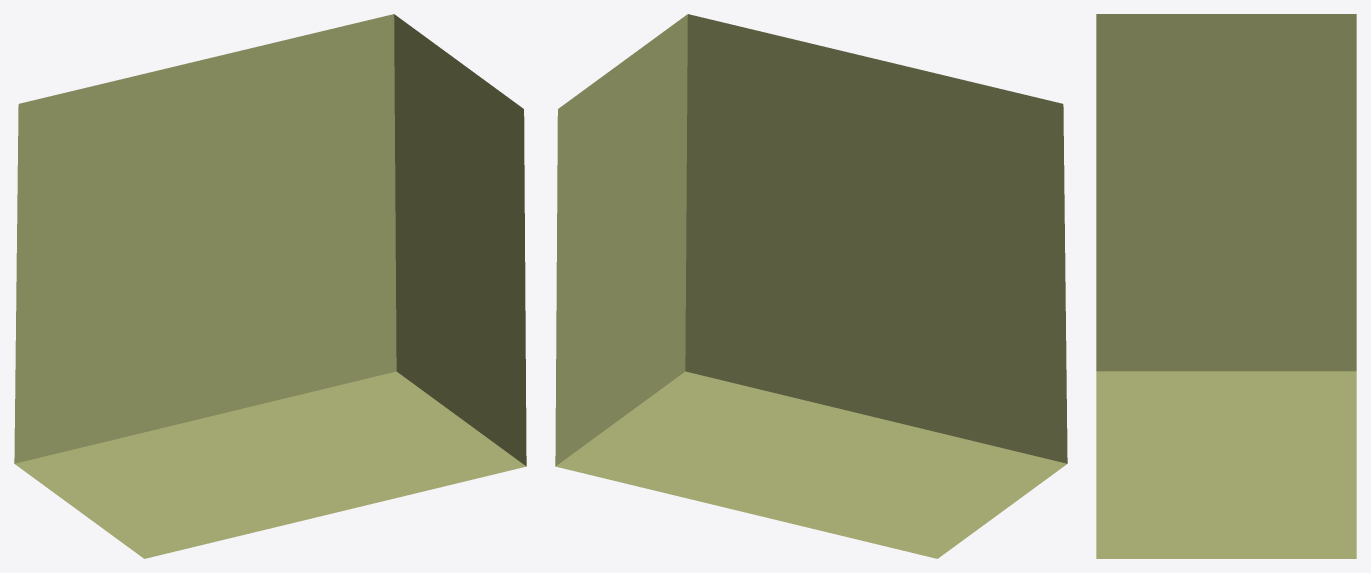
3 renders of one model, left to right at view 1: azimuth 30°, elevation 25°; view 2: azimuth 150°, elevation 25°; view 3: azimuth 270°, elevation 25°, orthographic.
Visible parts, largest first — view 1: 0_2_2_0_0_0_2_1_1_1_1; view 2: 0_2_2_0_0_0_2_1_1_1_1; view 3: 0_2_2_0_0_0_2_1_1_1_1.
Boxes of the visible parts, box(x1,y1,x2,y2) form: 0_2_2_0_0_0_2_1_1_1_1: box(14, 14, 526, 558); 0_2_2_0_0_0_2_1_1_1_1: box(555, 14, 1067, 558); 0_2_2_0_0_0_2_1_1_1_1: box(1096, 14, 1356, 558).
Bounding box in the file's own units: 10.19 × 9.16 × 6.
